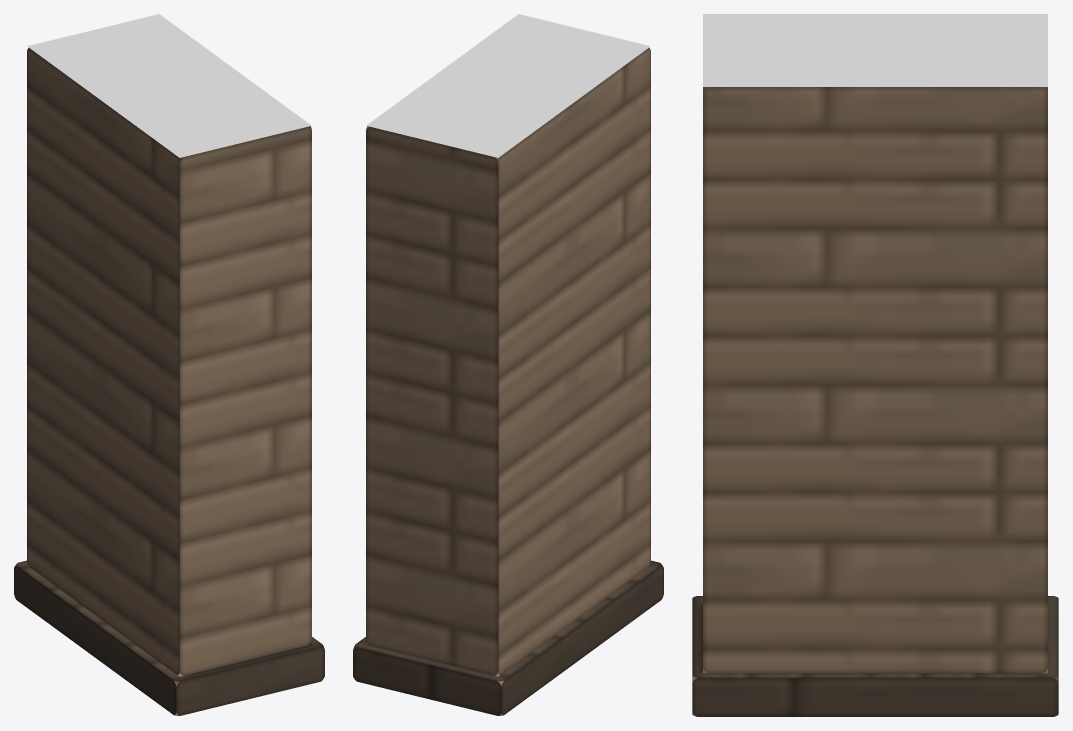
The model's file is Pilar.fbx.
The picture shows the model from 3 angles, left to right: view 1: azimuth 30°, elevation 25°; view 2: azimuth 150°, elevation 25°; view 3: azimuth 270°, elevation 25°; orthographic projection. The views are drawn at different scales.
Parts seen in each view (by area): view 1: cube, pilartop; view 2: cube, pilartop; view 3: cube, pilartop.
Part boxes in pixels (left/top/right/bottom): cube: left=14, top=48, right=324, bottom=715; pilartop: left=27, top=14, right=311, bottom=157; cube: left=353, top=48, right=663, bottom=715; pilartop: left=366, top=14, right=650, bottom=157; cube: left=692, top=87, right=1058, bottom=716; pilartop: left=703, top=14, right=1047, bottom=86.
Bounding box in the file's own units: 112 × 400 × 212.
Materials: 1 (1 with a texture image).
